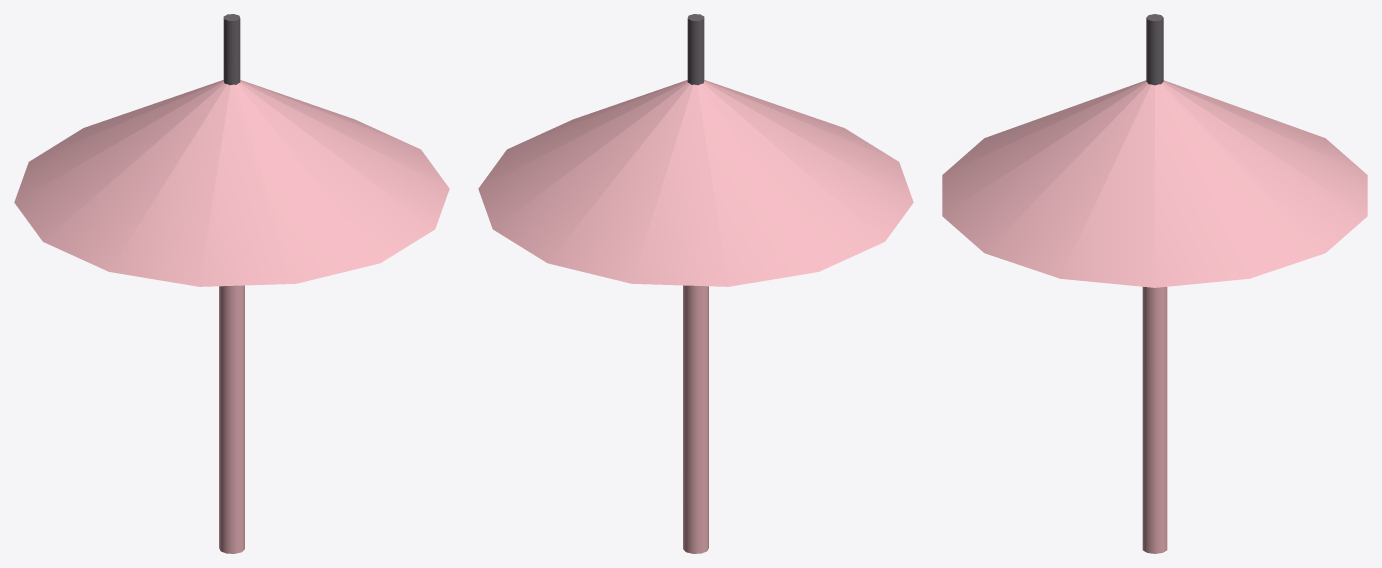
Rendered from paper_umbrella.glb.
The picture shows the model from 3 angles, left to right: view 1: azimuth 30°, elevation 25°; view 2: azimuth 150°, elevation 25°; view 3: azimuth 270°, elevation 25°; orthographic projection.
Visible parts, largest first — view 1: Paper Umbrella; view 2: Paper Umbrella; view 3: Paper Umbrella.
Part boxes in pixels (x1,y1,x2,y2): Paper Umbrella: (14,14,449,553); Paper Umbrella: (478,14,913,553); Paper Umbrella: (942,14,1367,553).
Bounding box in the file's own units: 0.6 × 0.805 × 0.585.
